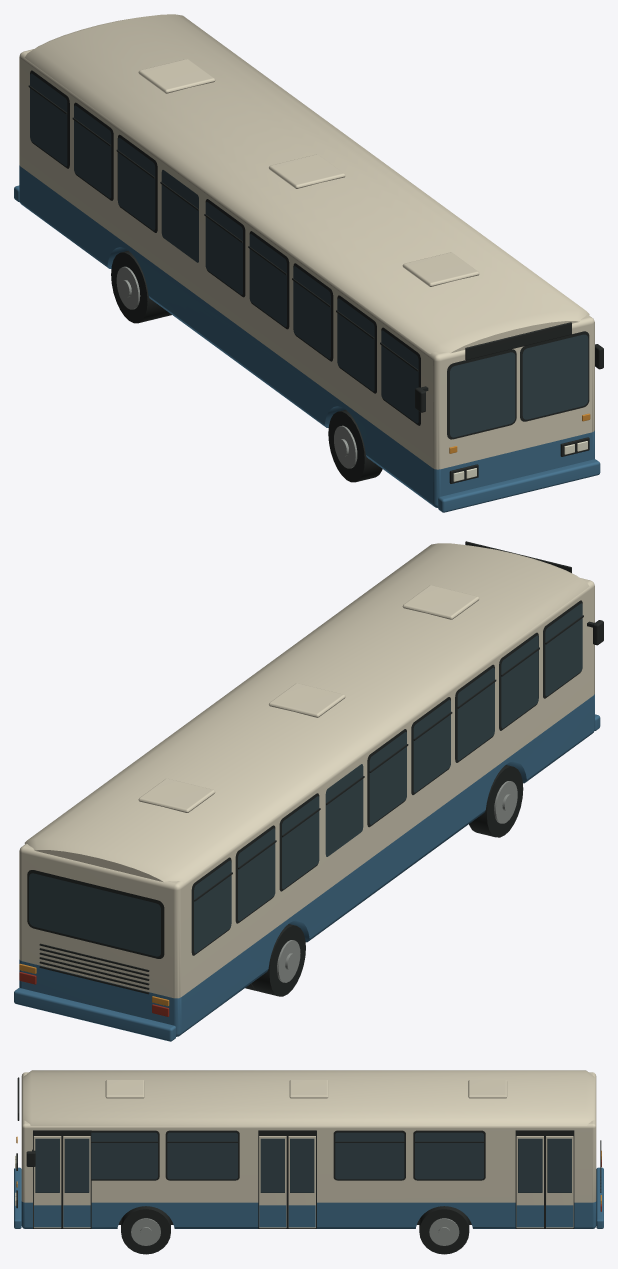
The model's file is LiAZ_5256.glb.
The picture shows the model from 3 angles, top to bottom: view 1: azimuth 30°, elevation 25°; view 2: azimuth 150°, elevation 25°; view 3: azimuth 270°, elevation 25°; orthographic projection. The views are drawn at different scales.
Visible parts, largest first — view 1: LiAZ_5256_game; view 2: LiAZ_5256_game; view 3: LiAZ_5256_game.
Boxes of the visible parts, x1,y1,x2,y2 form: LiAZ_5256_game: [14, 14, 603, 512]; LiAZ_5256_game: [14, 541, 603, 1041]; LiAZ_5256_game: [14, 1070, 603, 1254].
Bounding box in the file's own units: 2.85 × 3.03 × 11.55.
